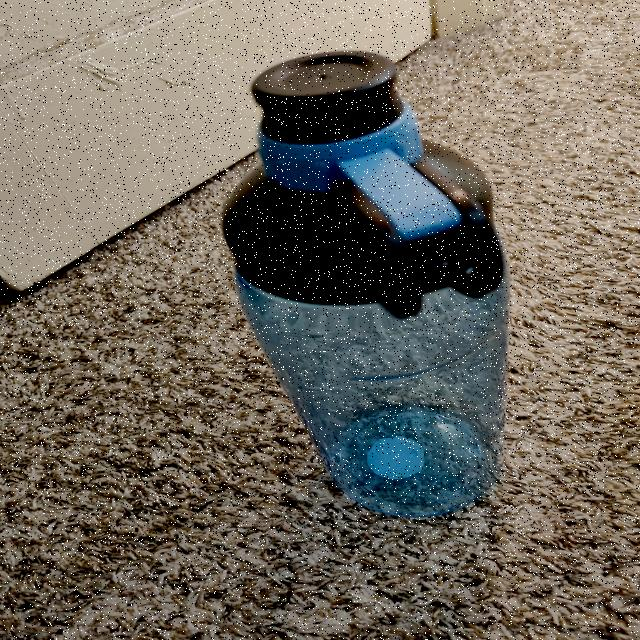bottle: (291, 105, 411, 528)
